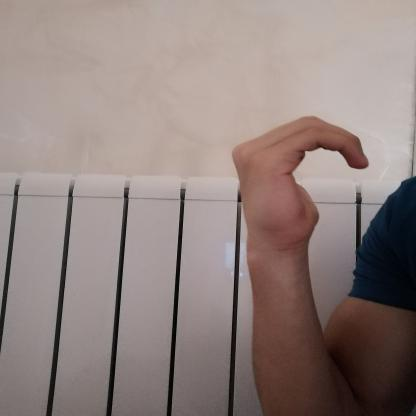HAA: (210, 100, 383, 258)
